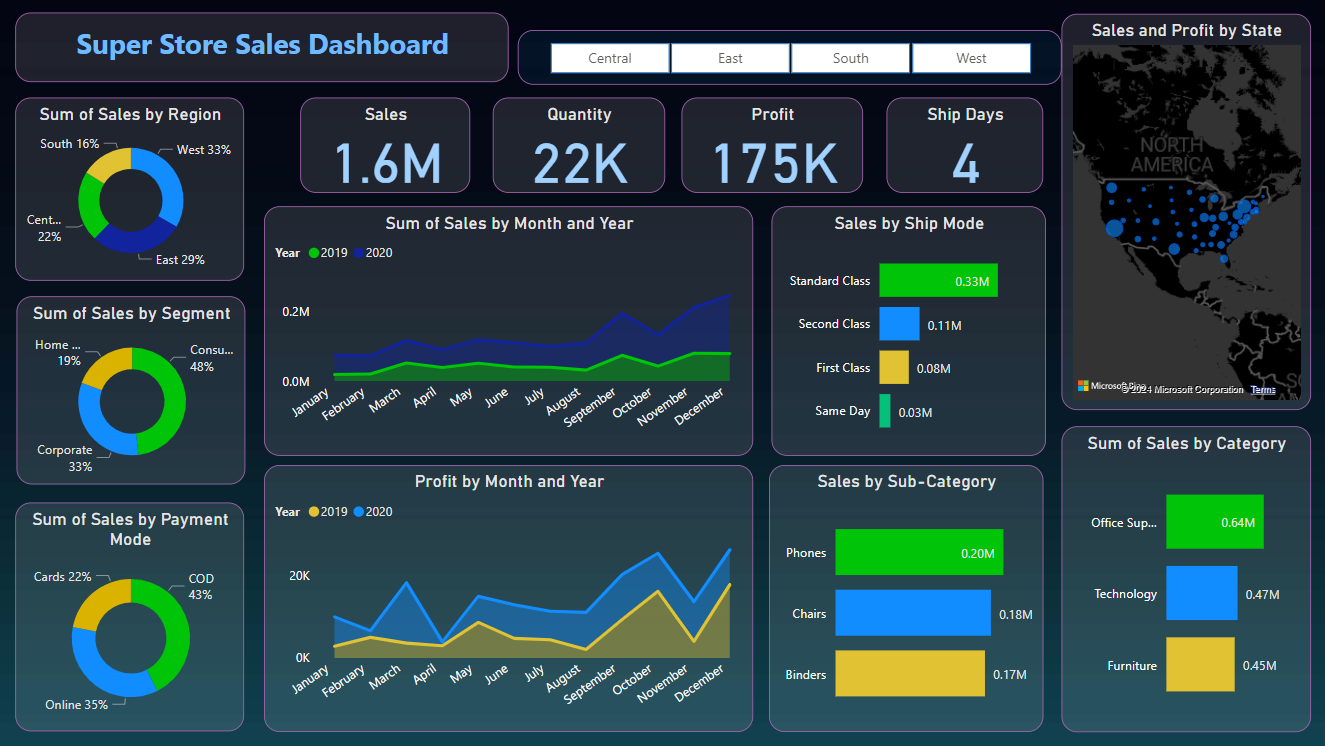

The page's visual inventory and layout, read from the dashboard file:
{"tool":"powerbi","page":{"name":"Page 1","canvas":[1280,720],"ordinal":0},"visuals":[{"type":"clusteredBarChart","fields":{"Category":["SuperStore_Sales_Dataset.Category"],"Y":["Sum(SuperStore_Sales_Dataset.Sales)"]},"box":[1025.1,410.9,240.4,295.1],"z":0},{"type":"clusteredBarChart","title":"Sales by Sub-Category","fields":{"Category":["SuperStore_Sales_Dataset.Sub-Category"],"Y":["Sum(SuperStore_Sales_Dataset.Sales)"]},"box":[743.2,448.1,264.5,257.9],"z":1000},{"type":"clusteredBarChart","title":"Sales by Ship Mode","fields":{"Category":["SuperStore_Sales_Dataset.Ship Mode"],"Y":["Sum(SuperStore_Sales_Dataset.Sales)"]},"box":[745.4,198.9,264.5,240.4],"z":2000},{"type":"stackedAreaChart","fields":{"Y":["Sum(SuperStore_Sales_Dataset.Sales)"],"Category":["SuperStore_Sales_Dataset.Order Date.Variation.Date Hierarchy.Month","SuperStore_Sales_Dataset.Order Date.Variation.Date Hierarchy.Day"],"Series":["SuperStore_Sales_Dataset.Order Date.Variation.Date Hierarchy.Year"]},"box":[255.7,198.9,472.1,240.4],"z":3000},{"type":"stackedAreaChart","title":"Profit by Month and Year","fields":{"Category":["SuperStore_Sales_Dataset.Order Date.Variation.Date Hierarchy.Month","SuperStore_Sales_Dataset.Order Date.Variation.Date Hierarchy.Day"],"Series":["SuperStore_Sales_Dataset.Order Date.Variation.Date Hierarchy.Year"],"Y":["Sum(SuperStore_Sales_Dataset.Profit)"]},"box":[255.7,448.1,472.1,257.9],"z":4000},{"type":"map","title":"Sales and Profit by State","fields":{"Category":["SuperStore_Sales_Dataset.State"],"Size":["Sum(SuperStore_Sales_Dataset.Sales)"]},"box":[1025.1,13.1,240.4,382.5],"z":5000},{"type":"donutChart","fields":{"Category":["SuperStore_Sales_Dataset.Segment"],"Y":["Sum(SuperStore_Sales_Dataset.Sales)"]},"box":[17.5,286.3,220.8,181.4],"z":6000},{"type":"donutChart","fields":{"Category":["SuperStore_Sales_Dataset.Payment Mode"],"Y":["Sum(SuperStore_Sales_Dataset.Sales)"]},"box":[15.3,485.3,220.8,220.8],"z":7000},{"type":"slicer","fields":{"Values":["SuperStore_Sales_Dataset.Region"]},"box":[500.6,28.4,524.6,52.5],"z":8000},{"type":"textbox","box":[15.1,12.3,475.8,67.2],"z":9000},{"type":"card","title":"Sales","fields":{"Values":["Sum(SuperStore_Sales_Dataset.Sales)"]},"box":[290.7,94,163.9,91.8],"z":10000},{"type":"card","title":"Quantity","fields":{"Values":["Sum(SuperStore_Sales_Dataset.Quantity)"]},"box":[476.5,94,166.1,91.8],"z":11000},{"type":"card","title":"Profit","fields":{"Values":["Sum(SuperStore_Sales_Dataset.Profit)"]},"box":[657.9,94,174.9,91.8],"z":12000},{"type":"card","title":"Ship Days","fields":{"Values":["Avg(SuperStore_Sales_Dataset.Avg_Delivery)"]},"box":[856.8,94,150.8,91.8],"z":13000},{"type":"donutChart","fields":{"Category":["SuperStore_Sales_Dataset.Region"],"Y":["Sum(SuperStore_Sales_Dataset.Sales)"]},"box":[15.3,94,220.8,177.1],"z":14000}]}

Visuals, with their boxes in screenshot pixels (x1, y1, x2, y2), scaled from the page's 1280x720 canvas onto the 1325x746 screenshot:
clusteredBarChart - SuperStore_Sales_Dataset.Category x Sum(SuperStore_Sales_Dataset.Sales): x1=1061 y1=426 x2=1310 y2=731
"Sales by Sub-Category" clusteredBarChart: x1=769 y1=464 x2=1043 y2=731
"Sales by Ship Mode" clusteredBarChart: x1=772 y1=206 x2=1045 y2=455
stackedAreaChart - Sum(SuperStore_Sales_Dataset.Sales) x SuperStore_Sales_Dataset.Order Date.Variation.Date Hierarchy.Month: x1=265 y1=206 x2=753 y2=455
"Profit by Month and Year" stackedAreaChart: x1=265 y1=464 x2=753 y2=731
"Sales and Profit by State" map: x1=1061 y1=14 x2=1310 y2=410
donutChart - SuperStore_Sales_Dataset.Segment x Sum(SuperStore_Sales_Dataset.Sales): x1=18 y1=297 x2=247 y2=485
donutChart - SuperStore_Sales_Dataset.Payment Mode x Sum(SuperStore_Sales_Dataset.Sales): x1=16 y1=503 x2=244 y2=732
slicer - SuperStore_Sales_Dataset.Region: x1=518 y1=29 x2=1061 y2=84
textbox: x1=16 y1=13 x2=508 y2=82
"Sales" card: x1=301 y1=97 x2=471 y2=193
"Quantity" card: x1=493 y1=97 x2=665 y2=193
"Profit" card: x1=681 y1=97 x2=862 y2=193
"Ship Days" card: x1=887 y1=97 x2=1043 y2=193
donutChart - SuperStore_Sales_Dataset.Region x Sum(SuperStore_Sales_Dataset.Sales): x1=16 y1=97 x2=244 y2=281
